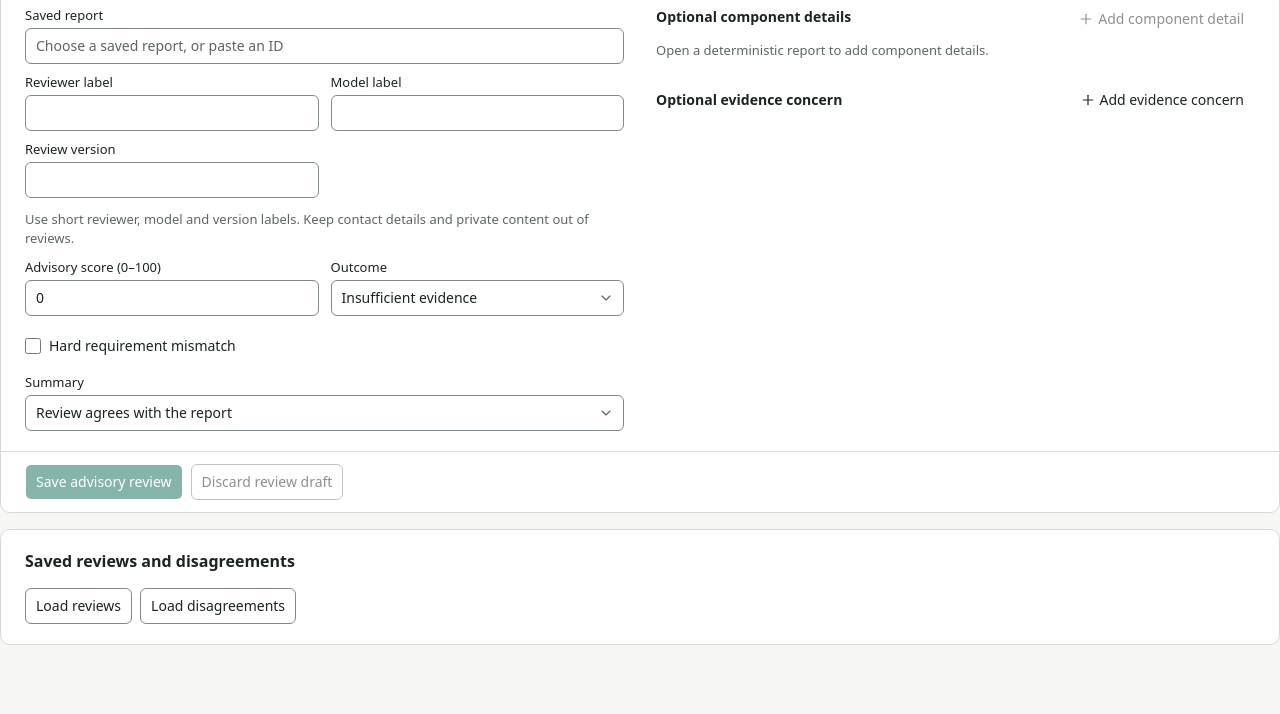
it: saved reviews and disagreements › lists reviews for the report ID filter and opens one
The width and height of the screenshot is (1280, 714).
Expected: the field labelled "Reviewer label" is enabled, [25,94,318,130]
Type "00000000-0000-4000-8000-0000000000d1" into the dropdown labelled "Saved report" at (324, 46), box [25,28,624,64]
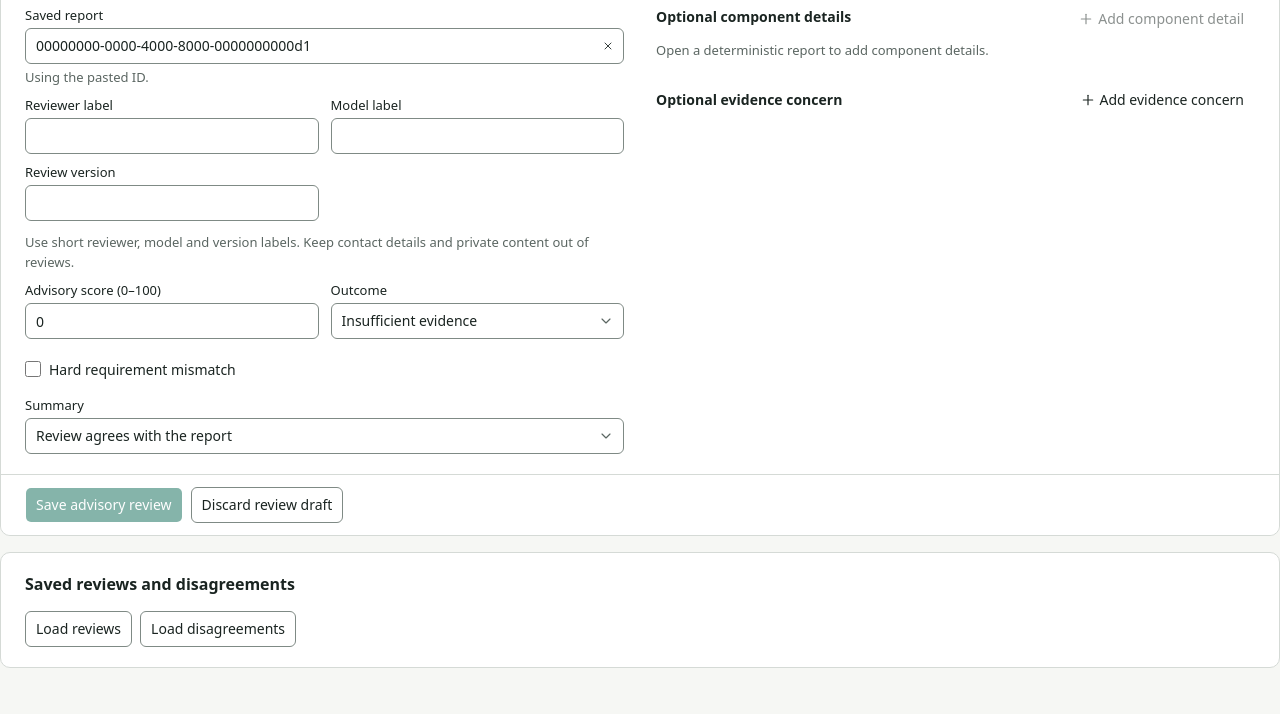
Click the button with test id "loadReviewHistoryButton" at (79, 629), box [25,611,132,647]
(page scrolled)
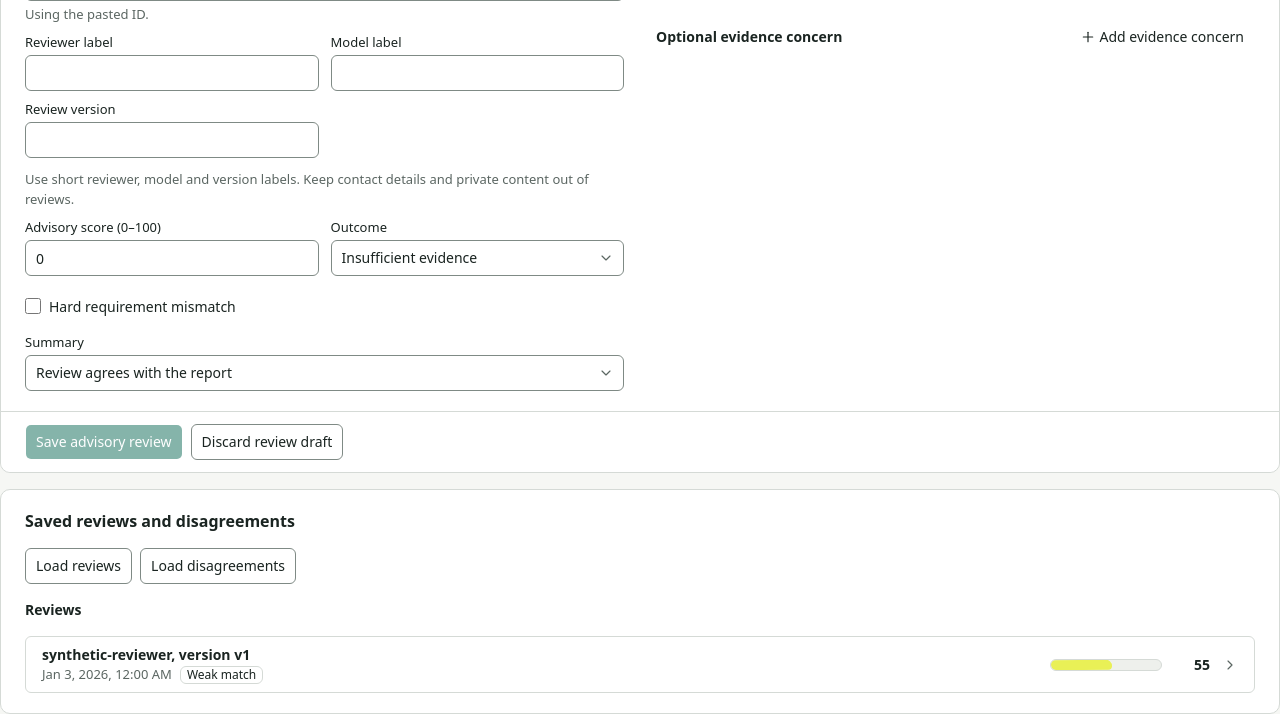
Now the element named "synthetic-reviewer, advisory score 55 of 100" is shown, box [1050,659,1162,671]
Click the button with test id "openReviewButton" at (146, 654), box [26,637,1254,692]
(page scrolled)
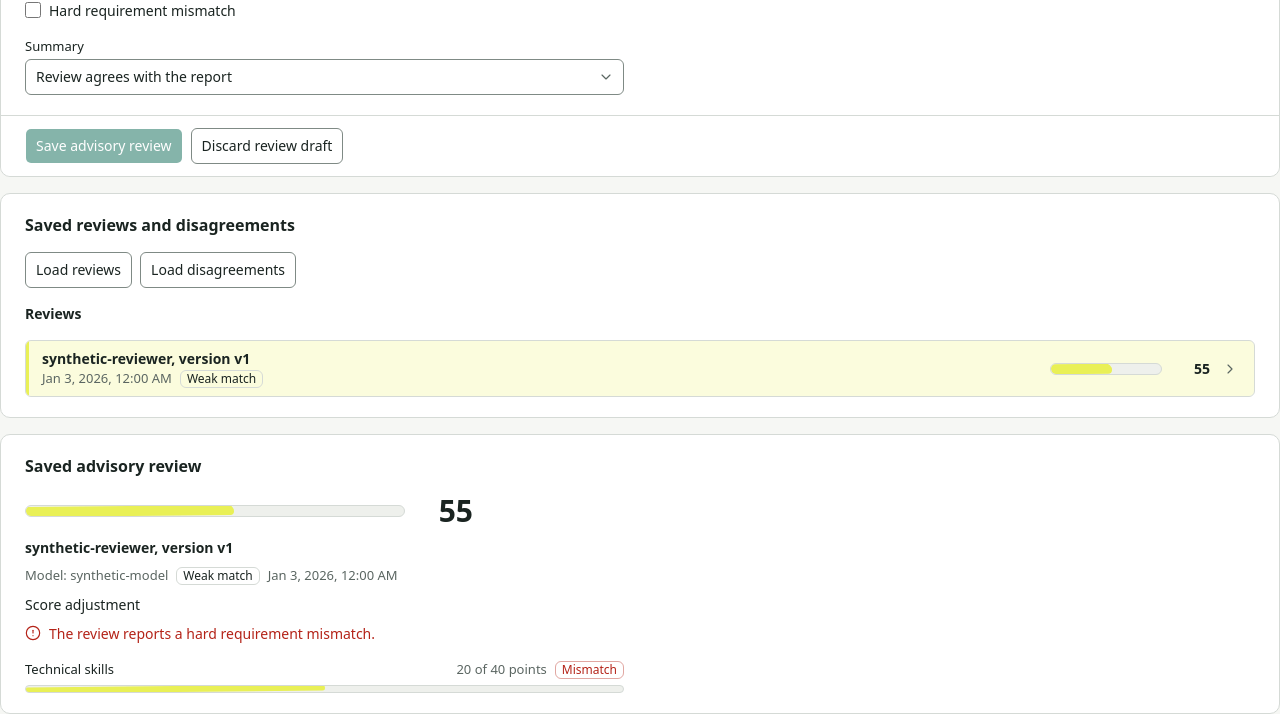
Now the element with test id "savedReviewPanel" is shown, box [0,434,1279,713]
Now the text "20 of 40 points" is shown, box [456,660,547,679]
